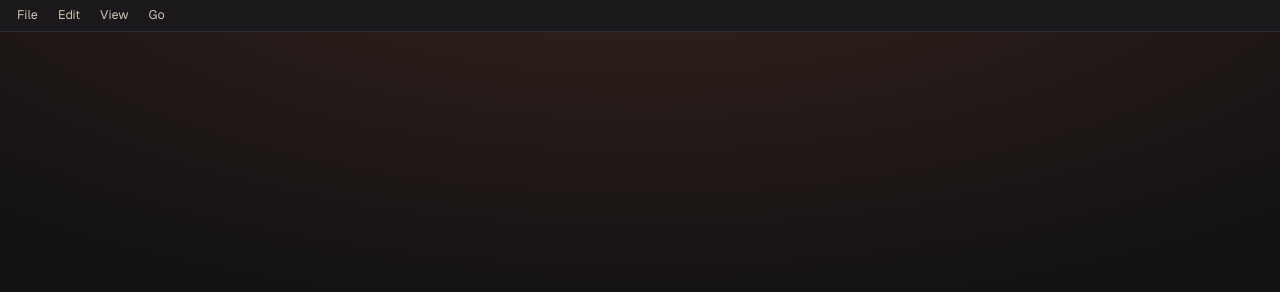
Test: EditorMenubar › disables Save in the File menu when not dirty
This screenshot has width=1280, height=292.
Click the menu item "File".
click(27, 16)  # box 8,4 -> 47,27
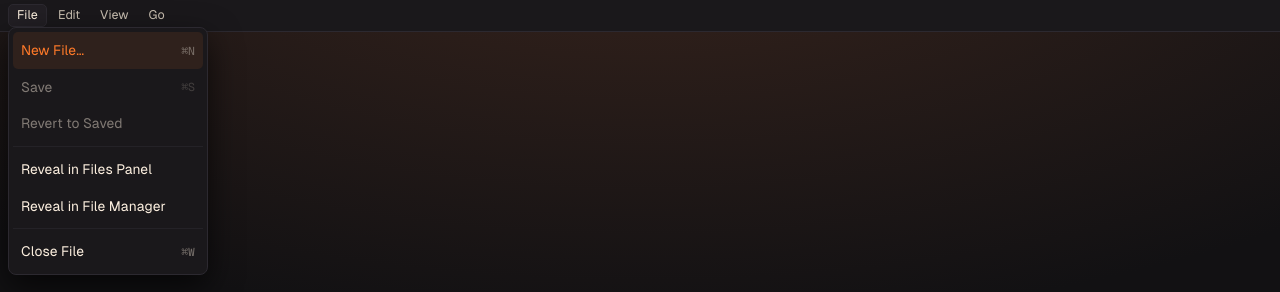
Result: the menu item "Save ⌘S" is disabled at 13,69 -> 203,105
